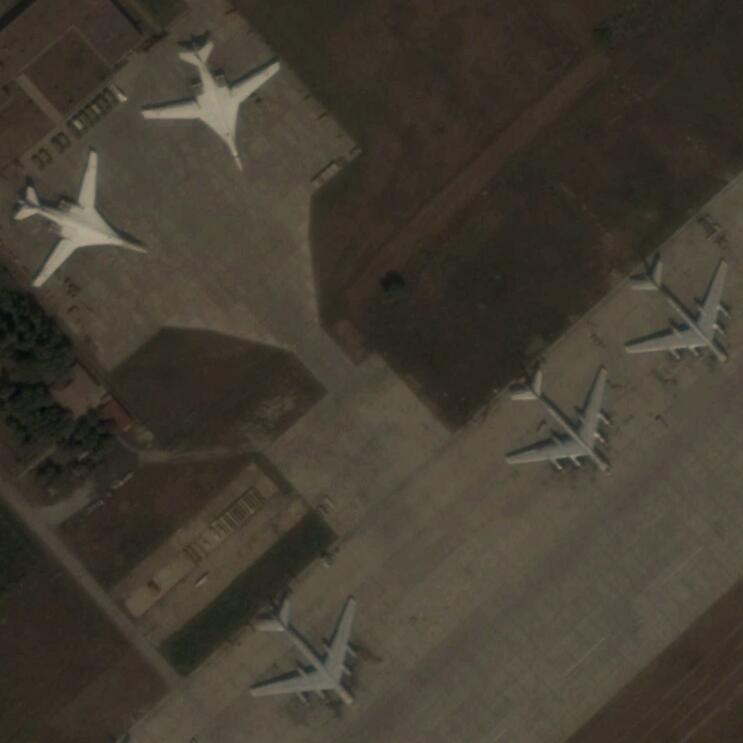A17: (246, 593, 366, 712), (501, 361, 614, 480), (621, 256, 734, 366)
A6: (138, 38, 281, 174), (14, 151, 150, 289)
